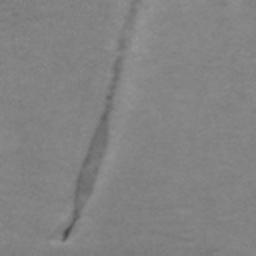Finishing roll printing: (60, 0, 138, 243)
